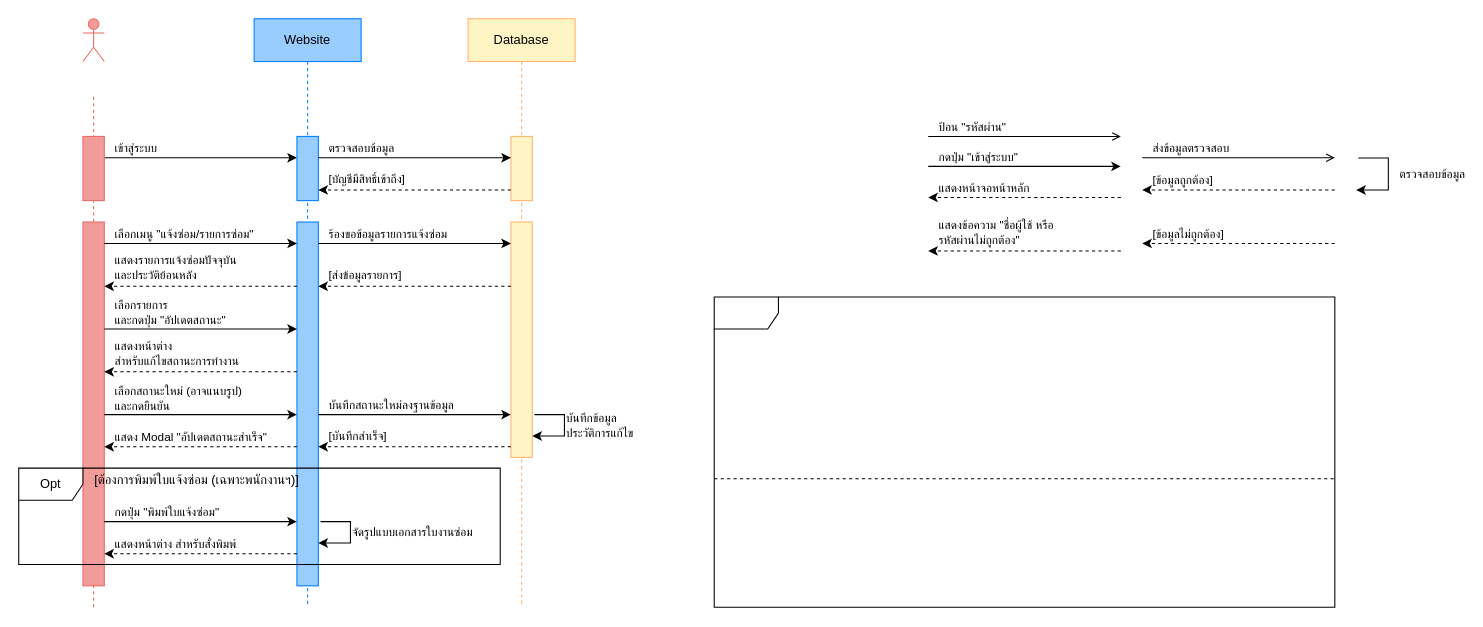
This 1483x627 diagram has some shape labels left out. Each missing label, with the centre of its shape:
Alt: the point at 1024,451
พนักงานฯ, ช่างซ่อมบำรุง: the point at 93,40
